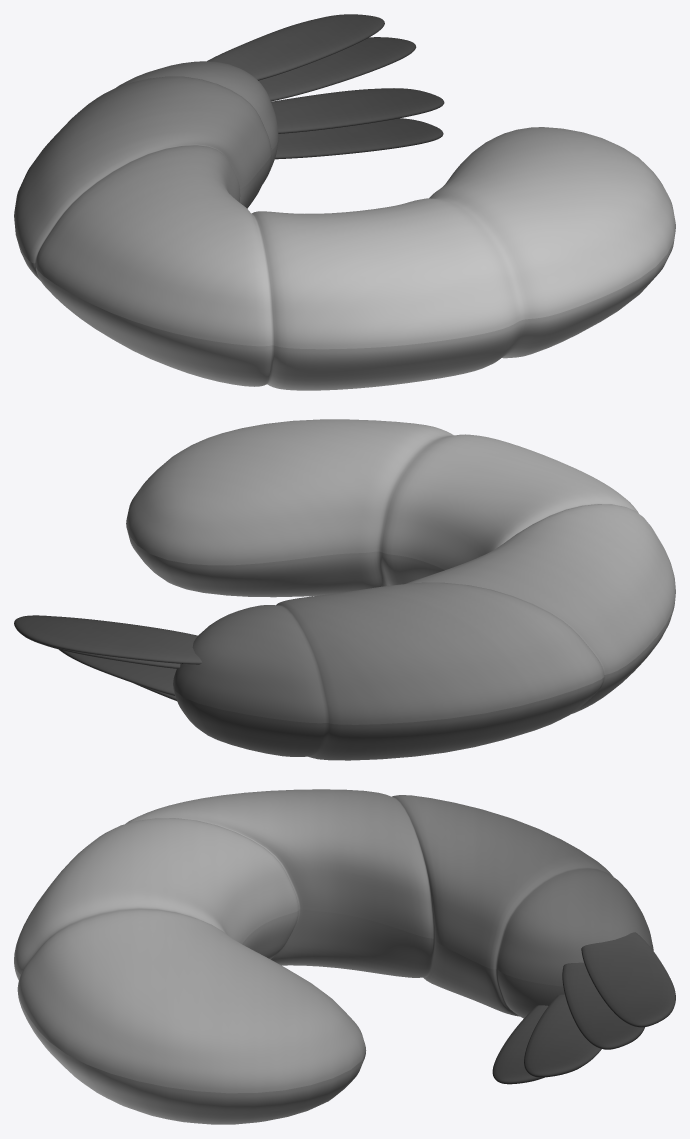
The model's file is HH_RawShrimp.fbx.
The picture shows the model from 3 angles, top to bottom: view 1: azimuth 30°, elevation 25°; view 2: azimuth 150°, elevation 25°; view 3: azimuth 270°, elevation 25°; orthographic projection. The views are drawn at different scales.
Visible parts, largest first — view 1: Top, Bottom; view 2: Top, Bottom; view 3: Top, Bottom.
Boxes of the visible parts, x1,y1,x2,y2 form: Top: [14, 14, 675, 349]; Bottom: [15, 88, 675, 390]; Top: [14, 419, 675, 724]; Bottom: [59, 525, 675, 760]; Top: [14, 789, 675, 1093]; Bottom: [14, 909, 601, 1124].
Bounding box in the file's own units: 115 × 30 × 119.
1 material, 1 textured.
